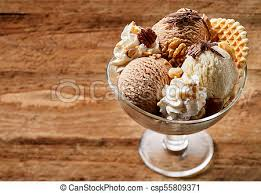ice-cream: (152, 9, 214, 59), (181, 45, 236, 100), (119, 57, 172, 111)
